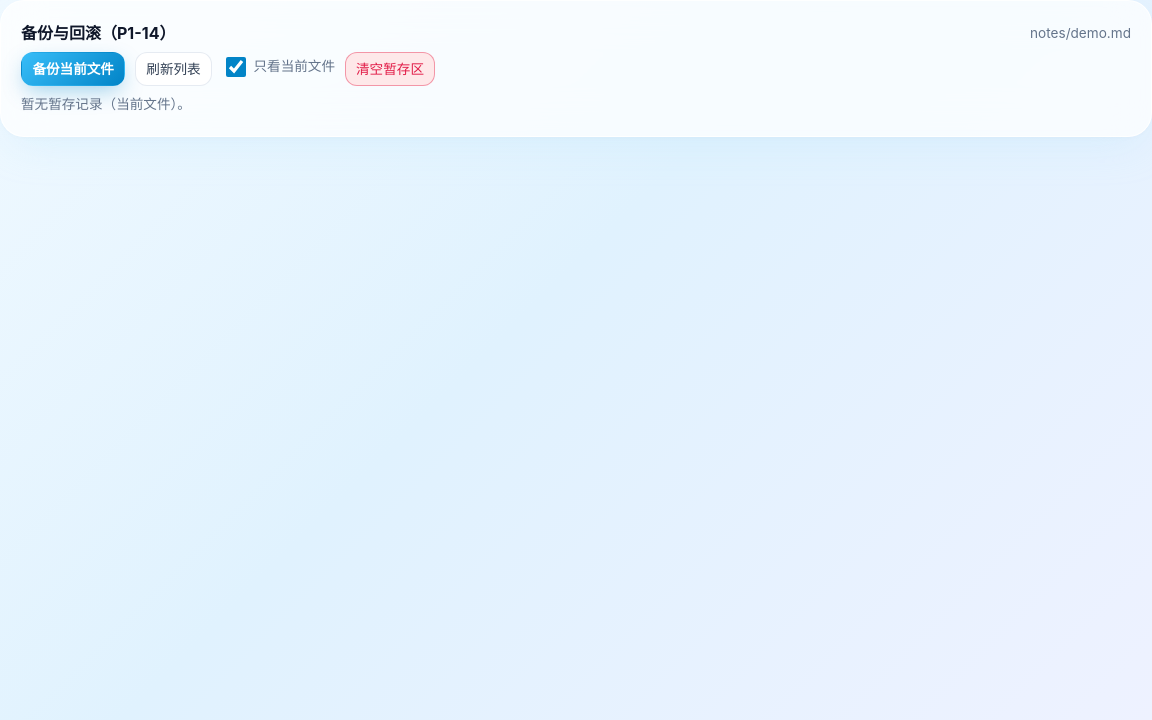
Test case: 备份当前文件 › 暂存 title 带文件名+时间戳，metadata 带路径与内容 sha256
Click the button with test id "backup-btn".
click(73, 69)  # box [21,52,125,86]
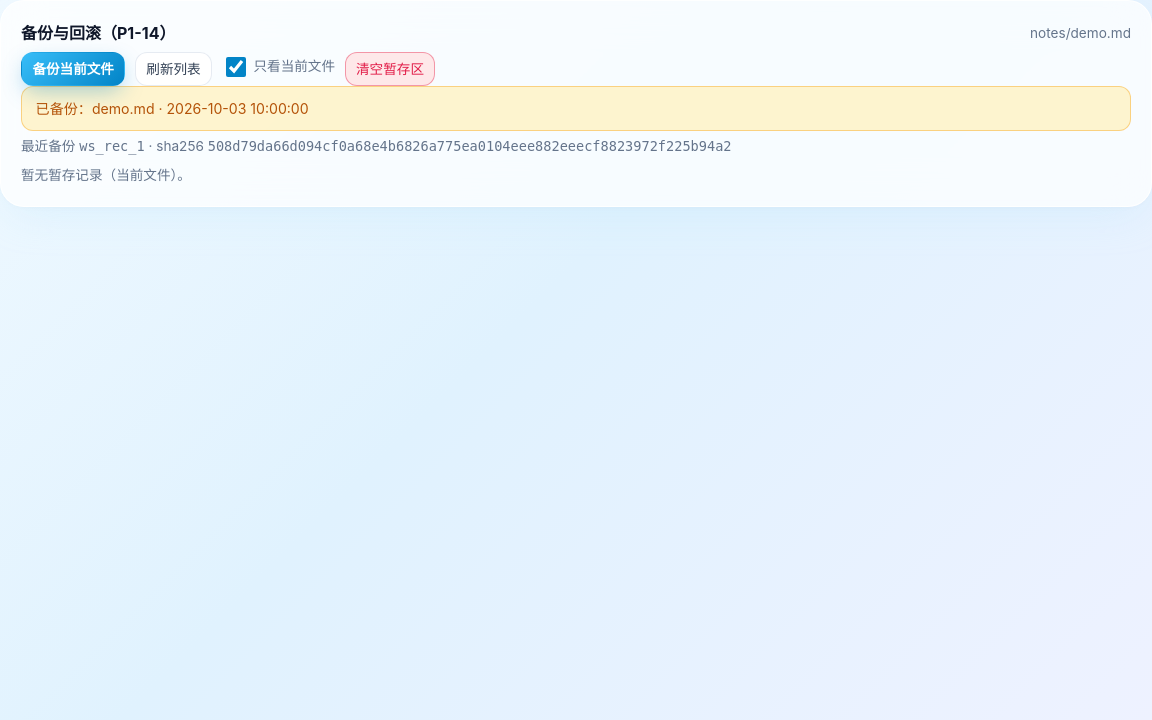
Result: the text with test id "backup-hash" reads "508d79da66d094cf0a68e4b6826a775ea0104eee882eeecf8823972f225b94a2" at [208,138,732,154]
